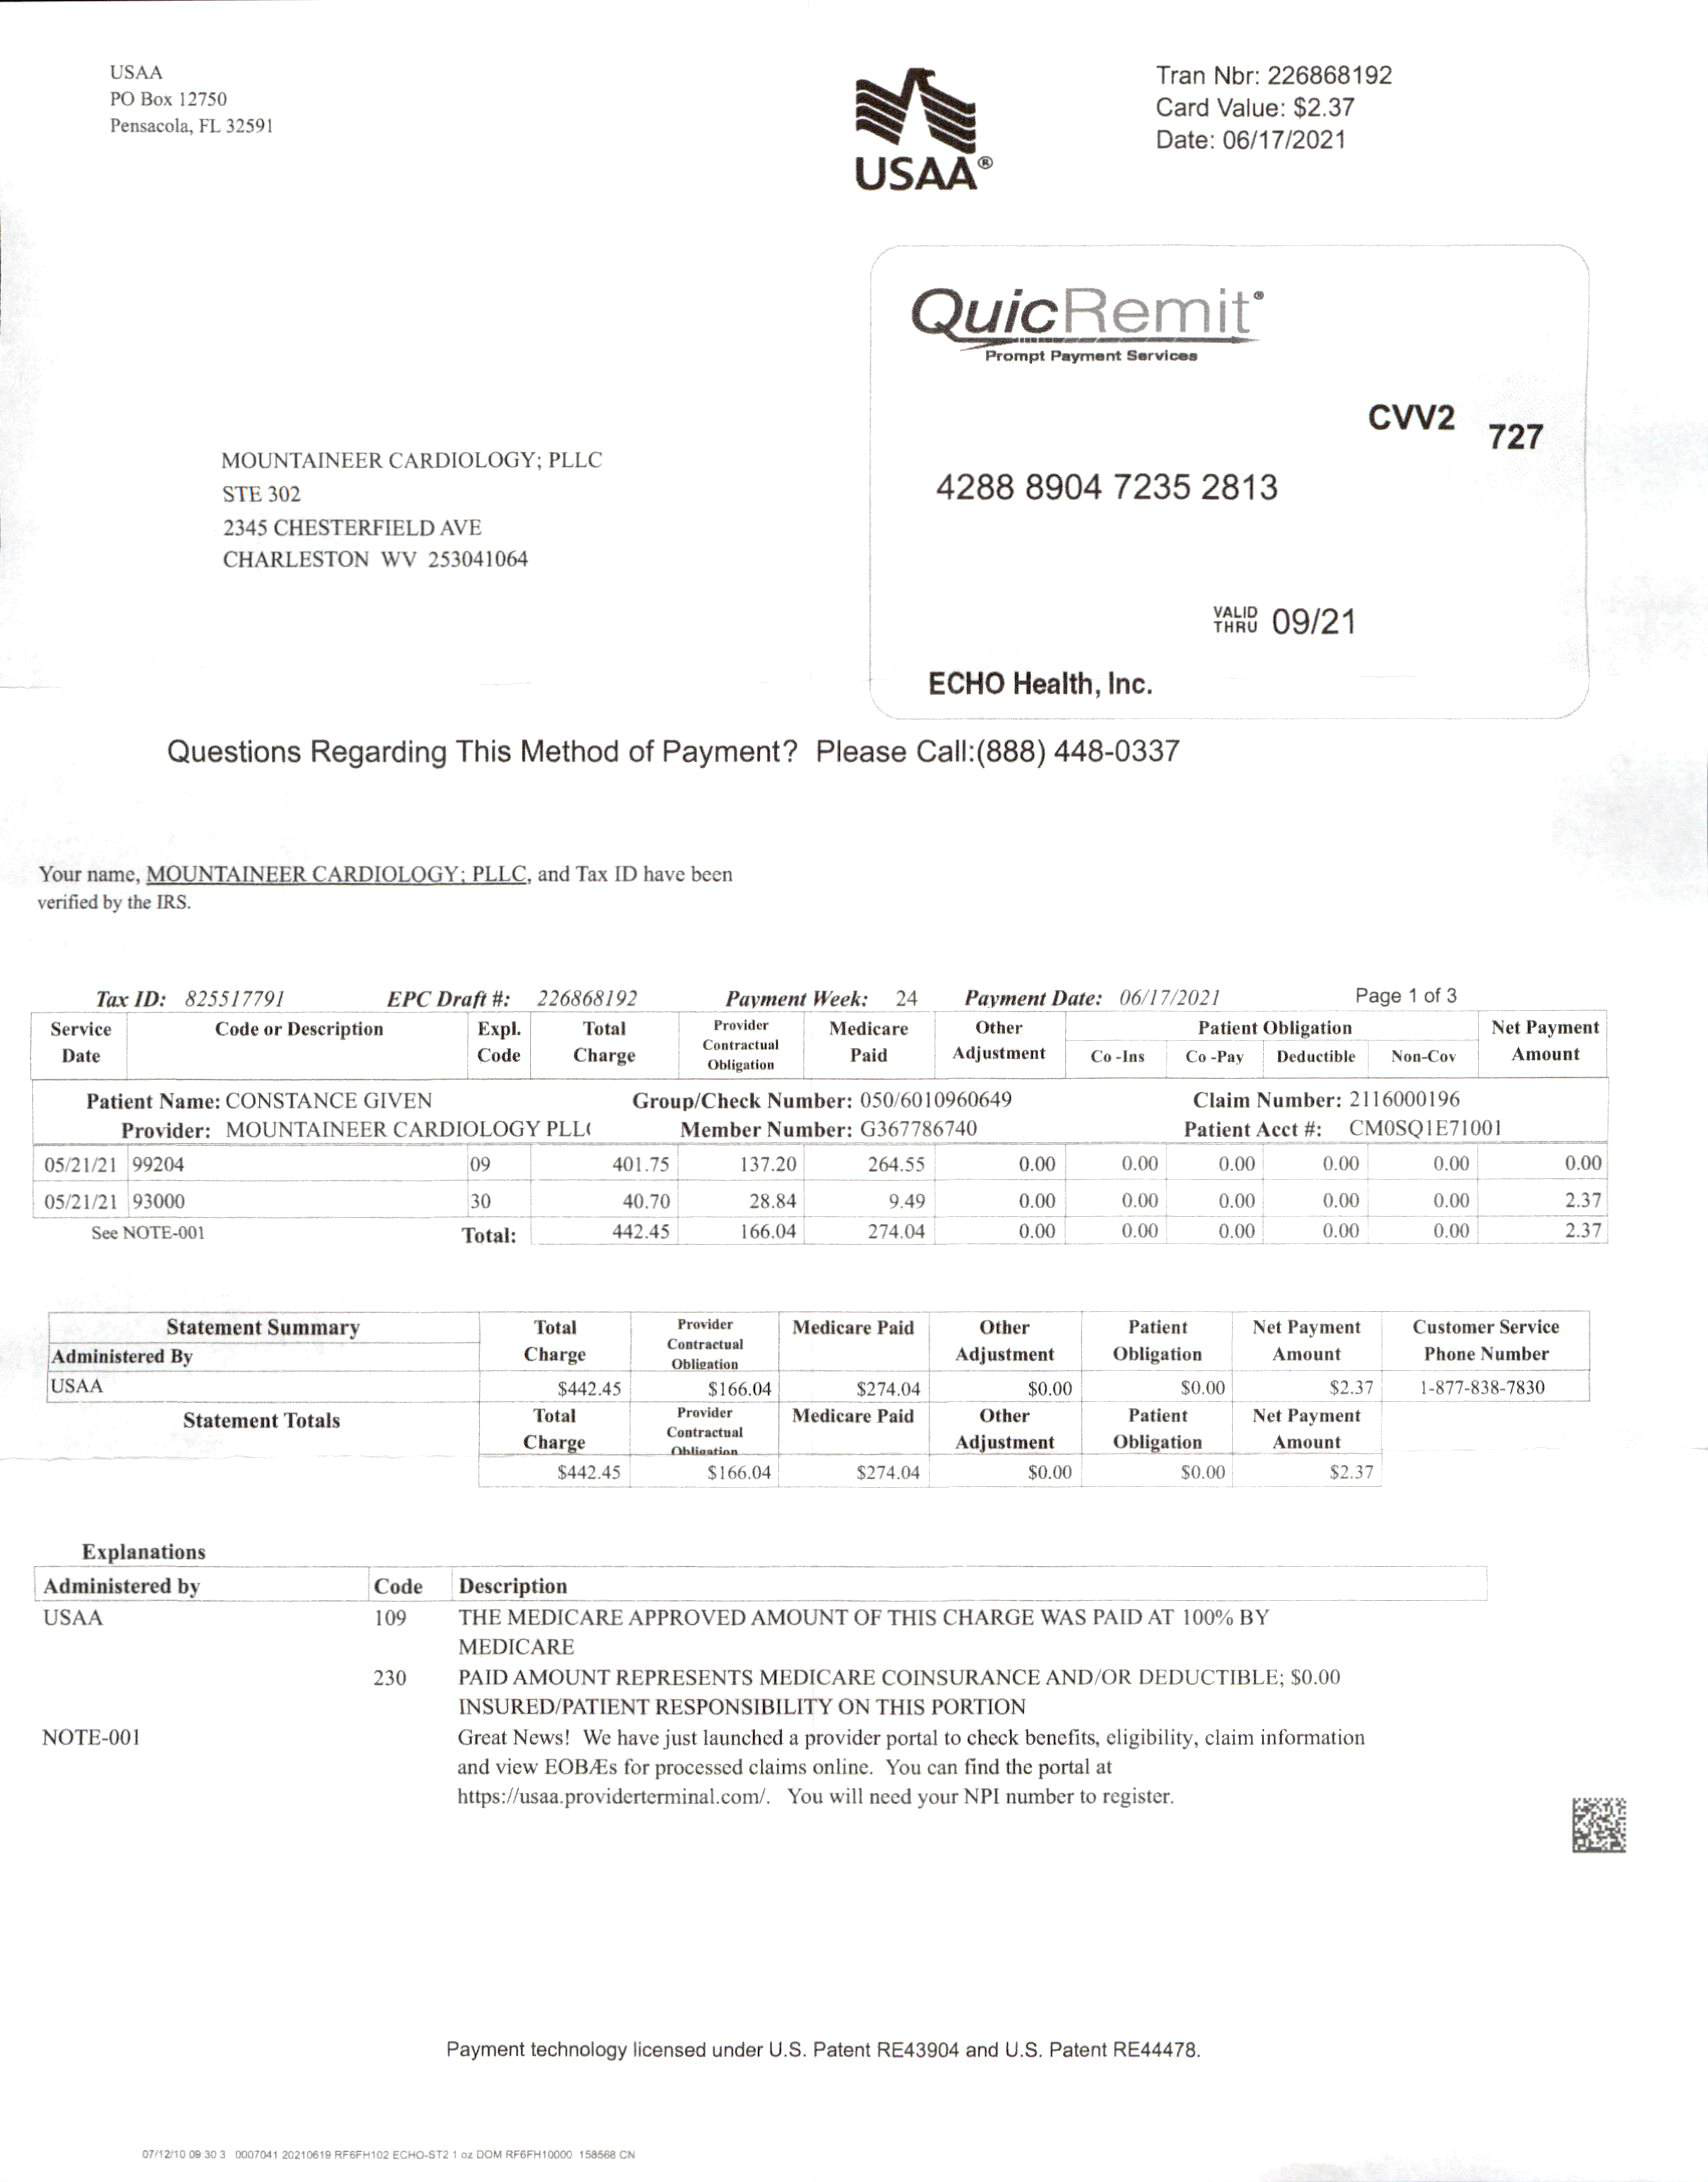data: (207, 434, 631, 607)
table: (18, 967, 1635, 1249), (34, 1291, 1600, 1497)
